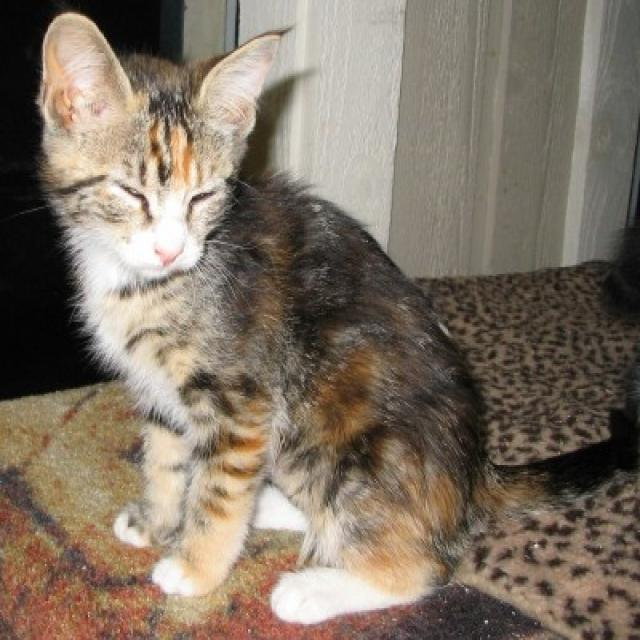Cats: (34, 9, 638, 626)
